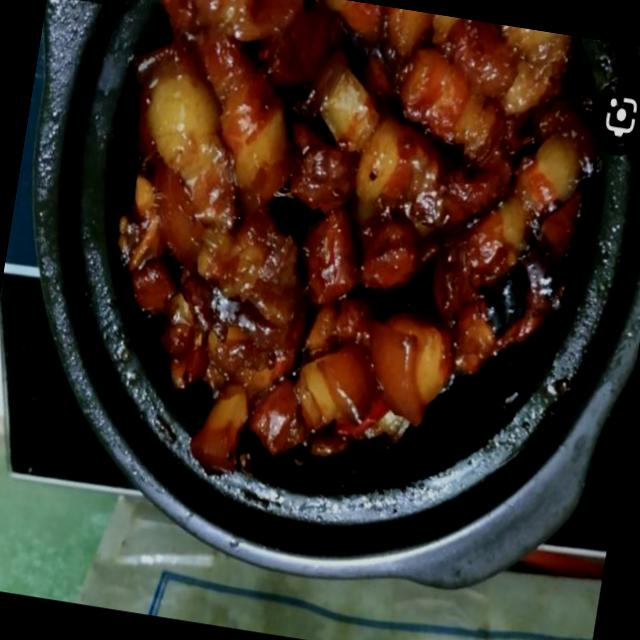kho tieu: (118, 0, 598, 473)
